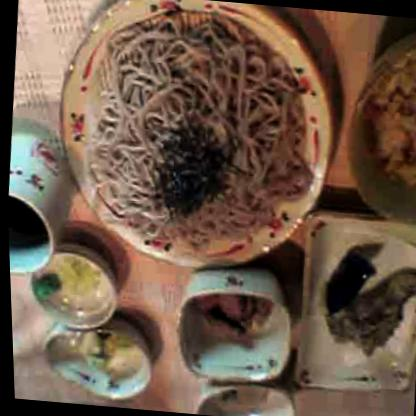fried rice: (340, 37, 415, 220)
memil soba: (73, 14, 316, 259)
